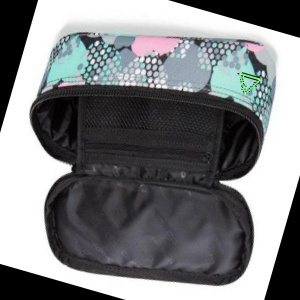triangle: (238, 68, 262, 95)
